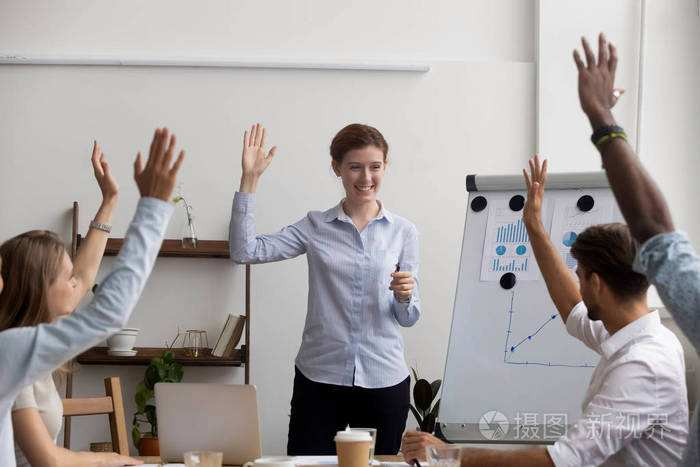no-phone: (572, 31, 628, 115), (132, 124, 186, 200), (519, 151, 552, 222), (238, 121, 278, 175), (87, 137, 121, 198)
